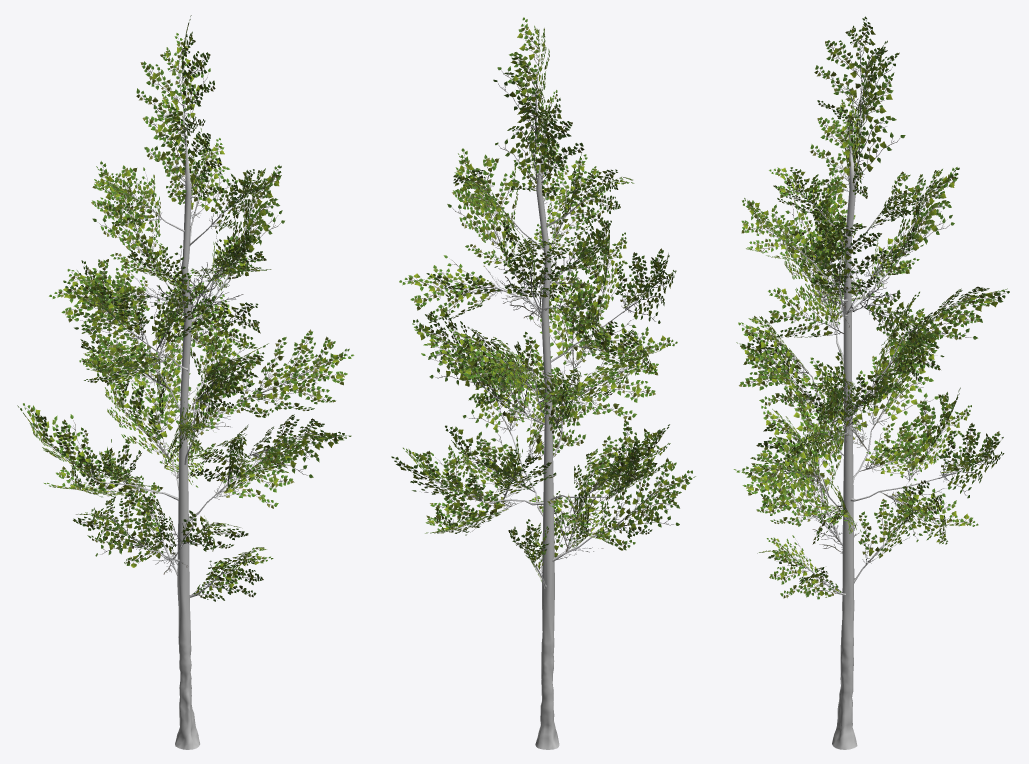
Rendered from tree2.fbx.
The picture shows the model from 3 angles, left to right: view 1: azimuth 30°, elevation 25°; view 2: azimuth 150°, elevation 25°; view 3: azimuth 270°, elevation 25°; orthographic projection. The views are drawn at different scales.
Visible parts, largest first — view 1: tree_LOD0; view 2: tree_LOD0; view 3: tree_LOD0.
Boxes of the visible parts, x1=… form: tree_LOD0: x1=17, y1=15, x2=354, y2=749; tree_LOD0: x1=391, y1=17, x2=695, y2=749; tree_LOD0: x1=733, y1=16, x2=1009, y2=749.
Size of what is drawn, in the model's own units: 2577 by 6207 by 2176.
